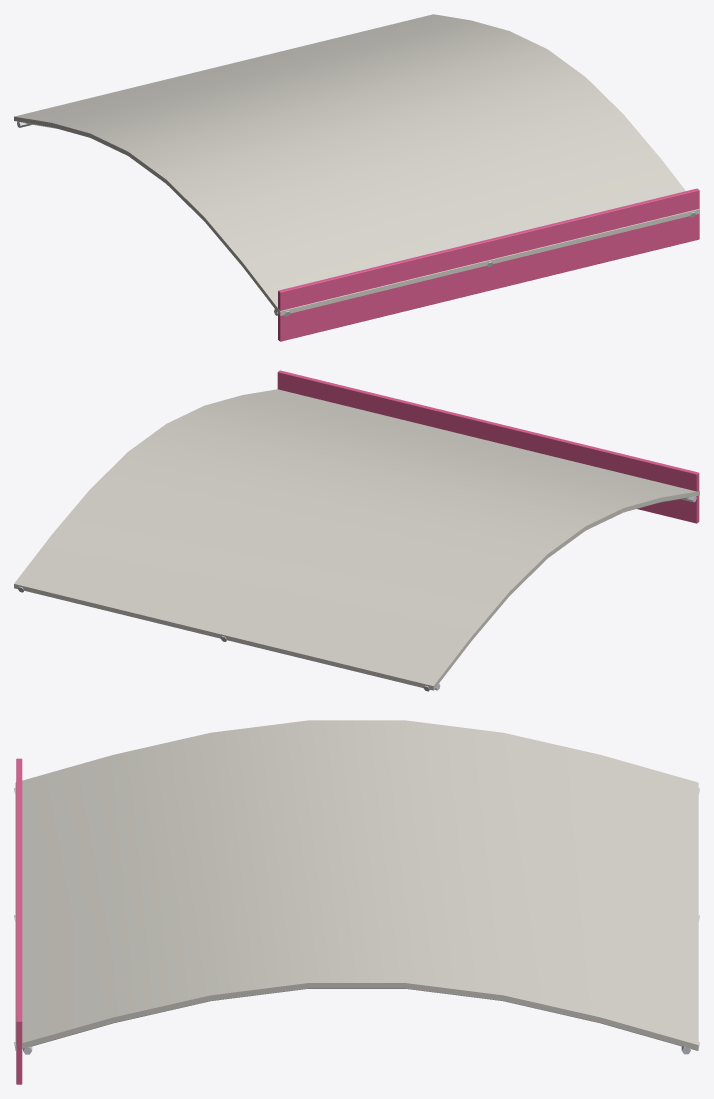
File: live-music-venue-and-festival-stage-stage-roof-canopy--f849524b.glb
3 renders of one model, top to bottom at view 1: azimuth 30°, elevation 25°; view 2: azimuth 150°, elevation 25°; view 3: azimuth 270°, elevation 25°, orthographic. The views are drawn at different scales.
Parts seen in each view (by area): view 1: stage-roof-canopy-section-short; view 2: stage-roof-canopy-section-short; view 3: stage-roof-canopy-section-short.
Part boxes in pixels (bbox=[...]): stage-roof-canopy-section-short: bbox=[14, 14, 699, 341]; stage-roof-canopy-section-short: bbox=[14, 370, 699, 691]; stage-roof-canopy-section-short: bbox=[14, 720, 699, 1084].
Bounding box in the file's own units: 3 × 0.5413 × 3.31.
